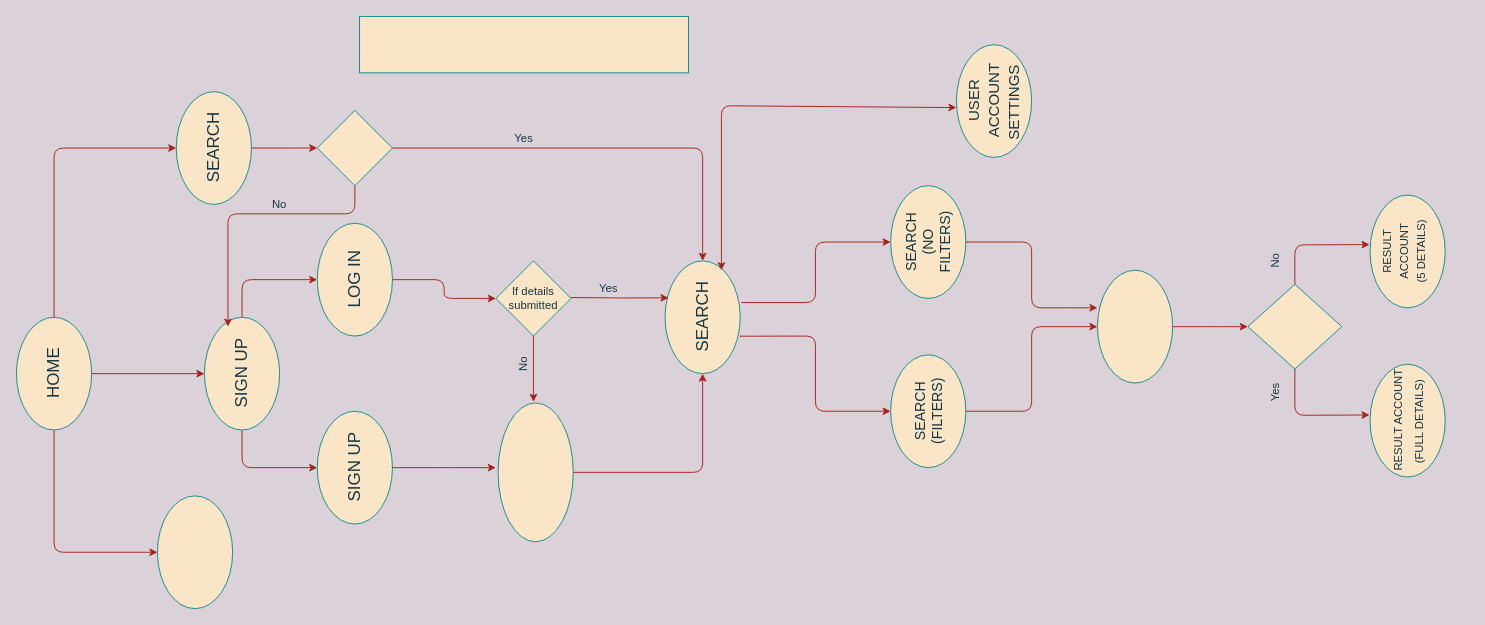
This 1485x625 diagram has some shape labels left out. Each missing label, with the centre of its shape:
"ABOUT US" belongs at [195,552].
"ADDON FORM" belongs at [535,472].
"If Logged In" belongs at [354,148].
"If user is authorized" belongs at [1294,326].
"RESULTS" belongs at [1135,326].
"SEARCHME.TECH ARCHITECTURE" belongs at [524,44].
